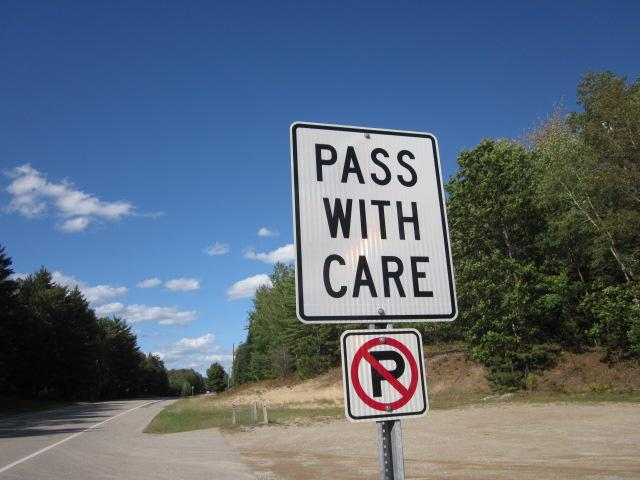regulatory: (296, 124, 461, 324), (344, 330, 429, 421)
